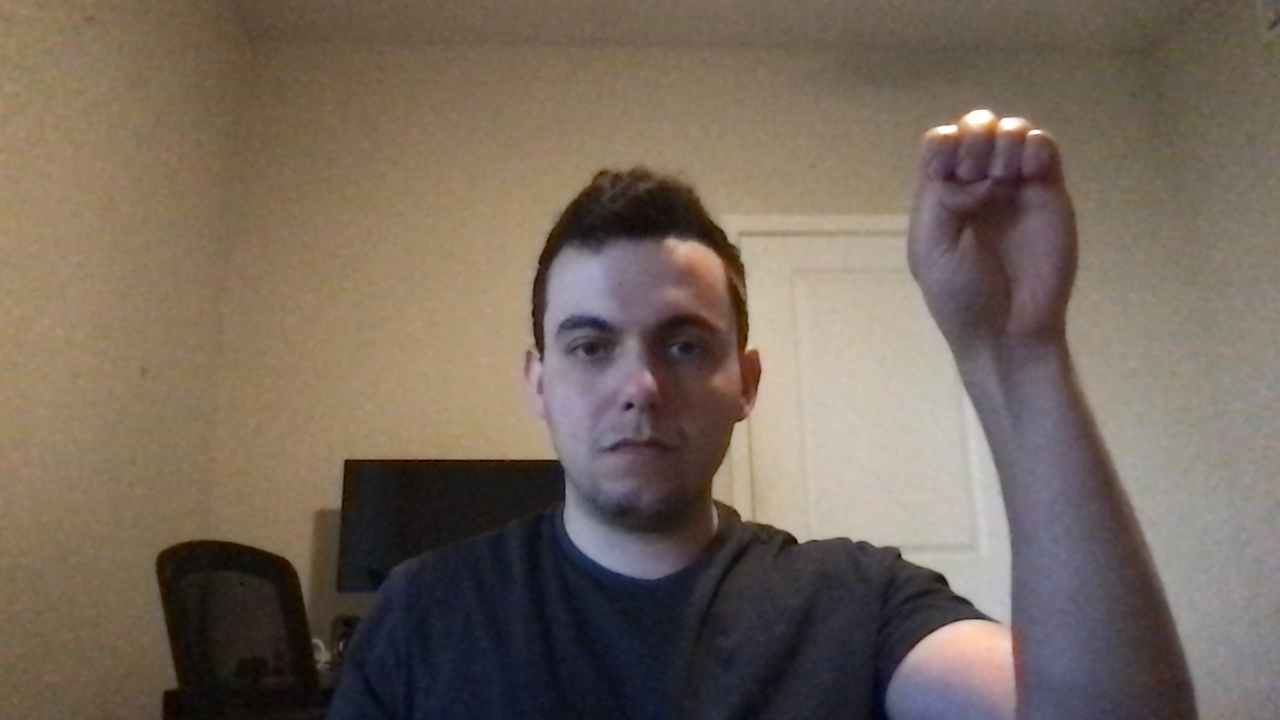e: (895, 103, 1095, 350)
